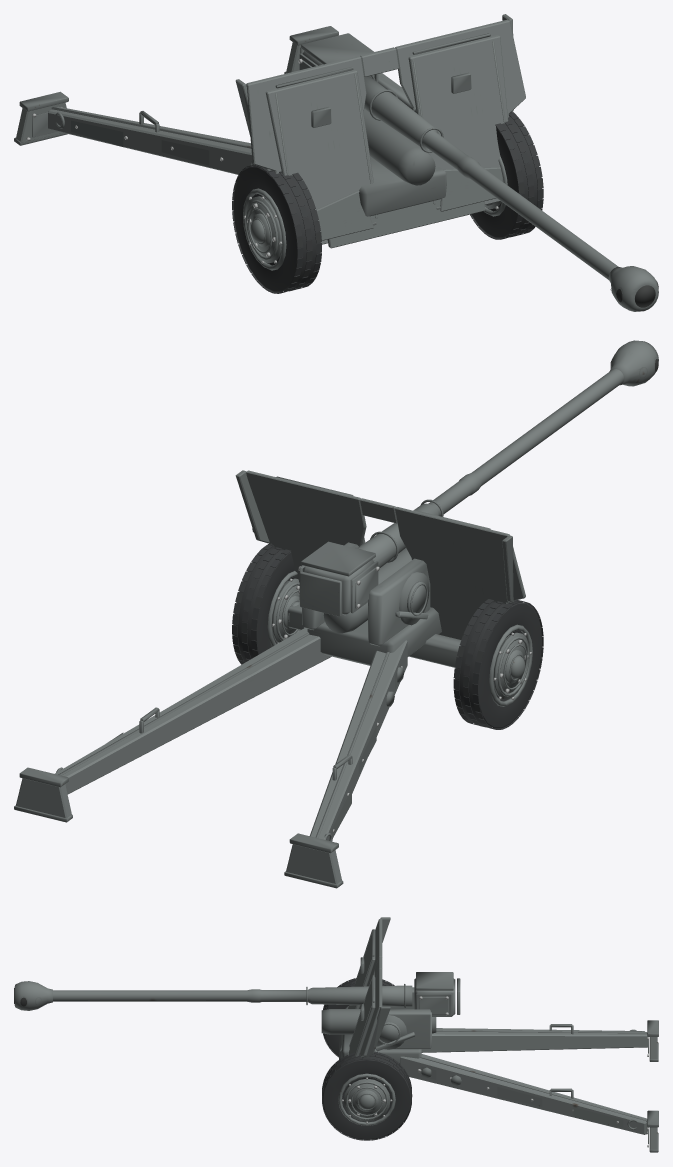
Rendered from unified-node-low.glb.
3 views of the same model, one above another, from view 1: azimuth 30°, elevation 25°; view 2: azimuth 150°, elevation 25°; view 3: azimuth 270°, elevation 25° (orthographic). The views are drawn at different scales.
Parts seen in each view (by area): view 1: QF17_Shield_Assembly-QF17_paint.016-batch, QF17_Shield_Assembly-QF17_fitting.016-batch, QF17_Barrel_Exterior-QF17_paint.016-batch, QF17_Carriage_Exterior-QF17_fitting.016-batch, QF17_PGF_Tire, QF17_Trail_Left_Exterior-QF17_paint.016-batch, QF17_PGF_Tire001, QF17_Trail_Left_Exterior-QF17_fitting.016-batch, QF17_Wheel_Left_Pivot-QF17_wheel.016-batch, QF17_Wheel_Left_Pivot-QF17_fitting.016-batch, QF17_Cosmetic_Fittings-QF17_fitting.016-batch, QF17_Carriage_Exterior-QF17_paint.016-batch (+2 smaller); view 2: QF17_Shield_Assembly-QF17_paint.016-batch, QF17_Trail_Right_Exterior-QF17_paint.016-batch, QF17_Carriage_Exterior-QF17_fitting.016-batch, QF17_PGF_Tire, QF17_Barrel_Exterior-QF17_paint.016-batch, QF17_Trail_Left_Exterior-QF17_paint.016-batch, QF17_Carriage_Exterior-QF17_paint.016-batch, QF17_PGF_Tire001, QF17_Trail_Left_Exterior-QF17_fitting.016-batch, QF17_Trail_Right_Exterior-QF17_fitting.016-batch, QF17_Wheel_Left_Pivot-QF17_wheel.016-batch, QF17_Shield_Assembly-QF17_fitting.016-batch (+2 smaller); view 3: QF17_Barrel_Exterior-QF17_paint.016-batch, QF17_Trail_Left_Exterior-QF17_paint.016-batch, QF17_PGF_Tire001, QF17_Trail_Right_Exterior-QF17_paint.016-batch, QF17_Carriage_Exterior-QF17_fitting.016-batch, QF17_Carriage_Exterior-QF17_paint.016-batch, QF17_Shield_Assembly-QF17_paint.016-batch, QF17_Trail_Right_Exterior-QF17_fitting.016-batch, QF17_Wheel_Right_Pivot-QF17_wheel.016-batch, QF17_Shield_Assembly-QF17_fitting.016-batch, QF17_Wheel_Right_Pivot-QF17_fitting.016-batch, QF17_Trail_Left_Exterior-QF17_fitting.016-batch (+1 smaller).
Part boxes in pixels (x1,y1,x2,y2): QF17_Shield_Assembly-QF17_paint.016-batch: [246, 19, 525, 252]; QF17_Shield_Assembly-QF17_fitting.016-batch: [235, 14, 513, 248]; QF17_Barrel_Exterior-QF17_paint.016-batch: [364, 76, 658, 311]; QF17_Carriage_Exterior-QF17_fitting.016-batch: [299, 33, 446, 216]; QF17_PGF_Tire: [232, 164, 321, 293]; QF17_Trail_Left_Exterior-QF17_paint.016-batch: [16, 102, 252, 174]; QF17_PGF_Tire001: [470, 111, 543, 239]; QF17_Trail_Left_Exterior-QF17_fitting.016-batch: [14, 91, 254, 166]; QF17_Wheel_Left_Pivot-QF17_wheel.016-batch: [243, 188, 286, 270]; QF17_Wheel_Left_Pivot-QF17_fitting.016-batch: [246, 196, 282, 263]; QF17_Cosmetic_Fittings-QF17_fitting.016-batch: [311, 72, 471, 127]; QF17_Carriage_Exterior-QF17_paint.016-batch: [300, 51, 416, 112]; QF17_Shield_Assembly-QF17_paint.016-batch: [246, 470, 525, 639]; QF17_Trail_Right_Exterior-QF17_paint.016-batch: [16, 628, 331, 817]; QF17_Carriage_Exterior-QF17_fitting.016-batch: [287, 541, 461, 667]; QF17_PGF_Tire: [453, 599, 543, 729]; QF17_Barrel_Exterior-QF17_paint.016-batch: [358, 340, 658, 567]; QF17_Trail_Left_Exterior-QF17_paint.016-batch: [286, 640, 407, 883]; QF17_Carriage_Exterior-QF17_paint.016-batch: [302, 542, 430, 646]; QF17_PGF_Tire001: [232, 543, 294, 664]; QF17_Trail_Left_Exterior-QF17_fitting.016-batch: [284, 652, 404, 888]; QF17_Trail_Right_Exterior-QF17_fitting.016-batch: [14, 632, 309, 822]; QF17_Wheel_Left_Pivot-QF17_wheel.016-batch: [489, 624, 532, 706]; QF17_Shield_Assembly-QF17_fitting.016-batch: [235, 470, 513, 602]; QF17_Barrel_Exterior-QF17_paint.016-batch: [14, 981, 412, 1010]; QF17_Trail_Left_Exterior-QF17_paint.016-batch: [421, 1028, 657, 1059]; QF17_PGF_Tire001: [322, 1051, 412, 1140]; QF17_Trail_Right_Exterior-QF17_paint.016-batch: [400, 1054, 657, 1149]; QF17_Carriage_Exterior-QF17_fitting.016-batch: [321, 972, 460, 1063]; QF17_Carriage_Exterior-QF17_paint.016-batch: [375, 978, 455, 1051]; QF17_Shield_Assembly-QF17_paint.016-batch: [348, 919, 382, 1057]; QF17_Trail_Right_Exterior-QF17_fitting.016-batch: [420, 1056, 658, 1152]; QF17_Wheel_Right_Pivot-QF17_wheel.016-batch: [338, 1073, 395, 1125]; QF17_Shield_Assembly-QF17_fitting.016-batch: [339, 917, 390, 1059]; QF17_Wheel_Right_Pivot-QF17_fitting.016-batch: [343, 1078, 390, 1121]; QF17_Trail_Left_Exterior-QF17_fitting.016-batch: [436, 1020, 658, 1061].
Size of the model in its own units: 3.33 by 1.97 by 8.38.
6 materials, 3 textured.
